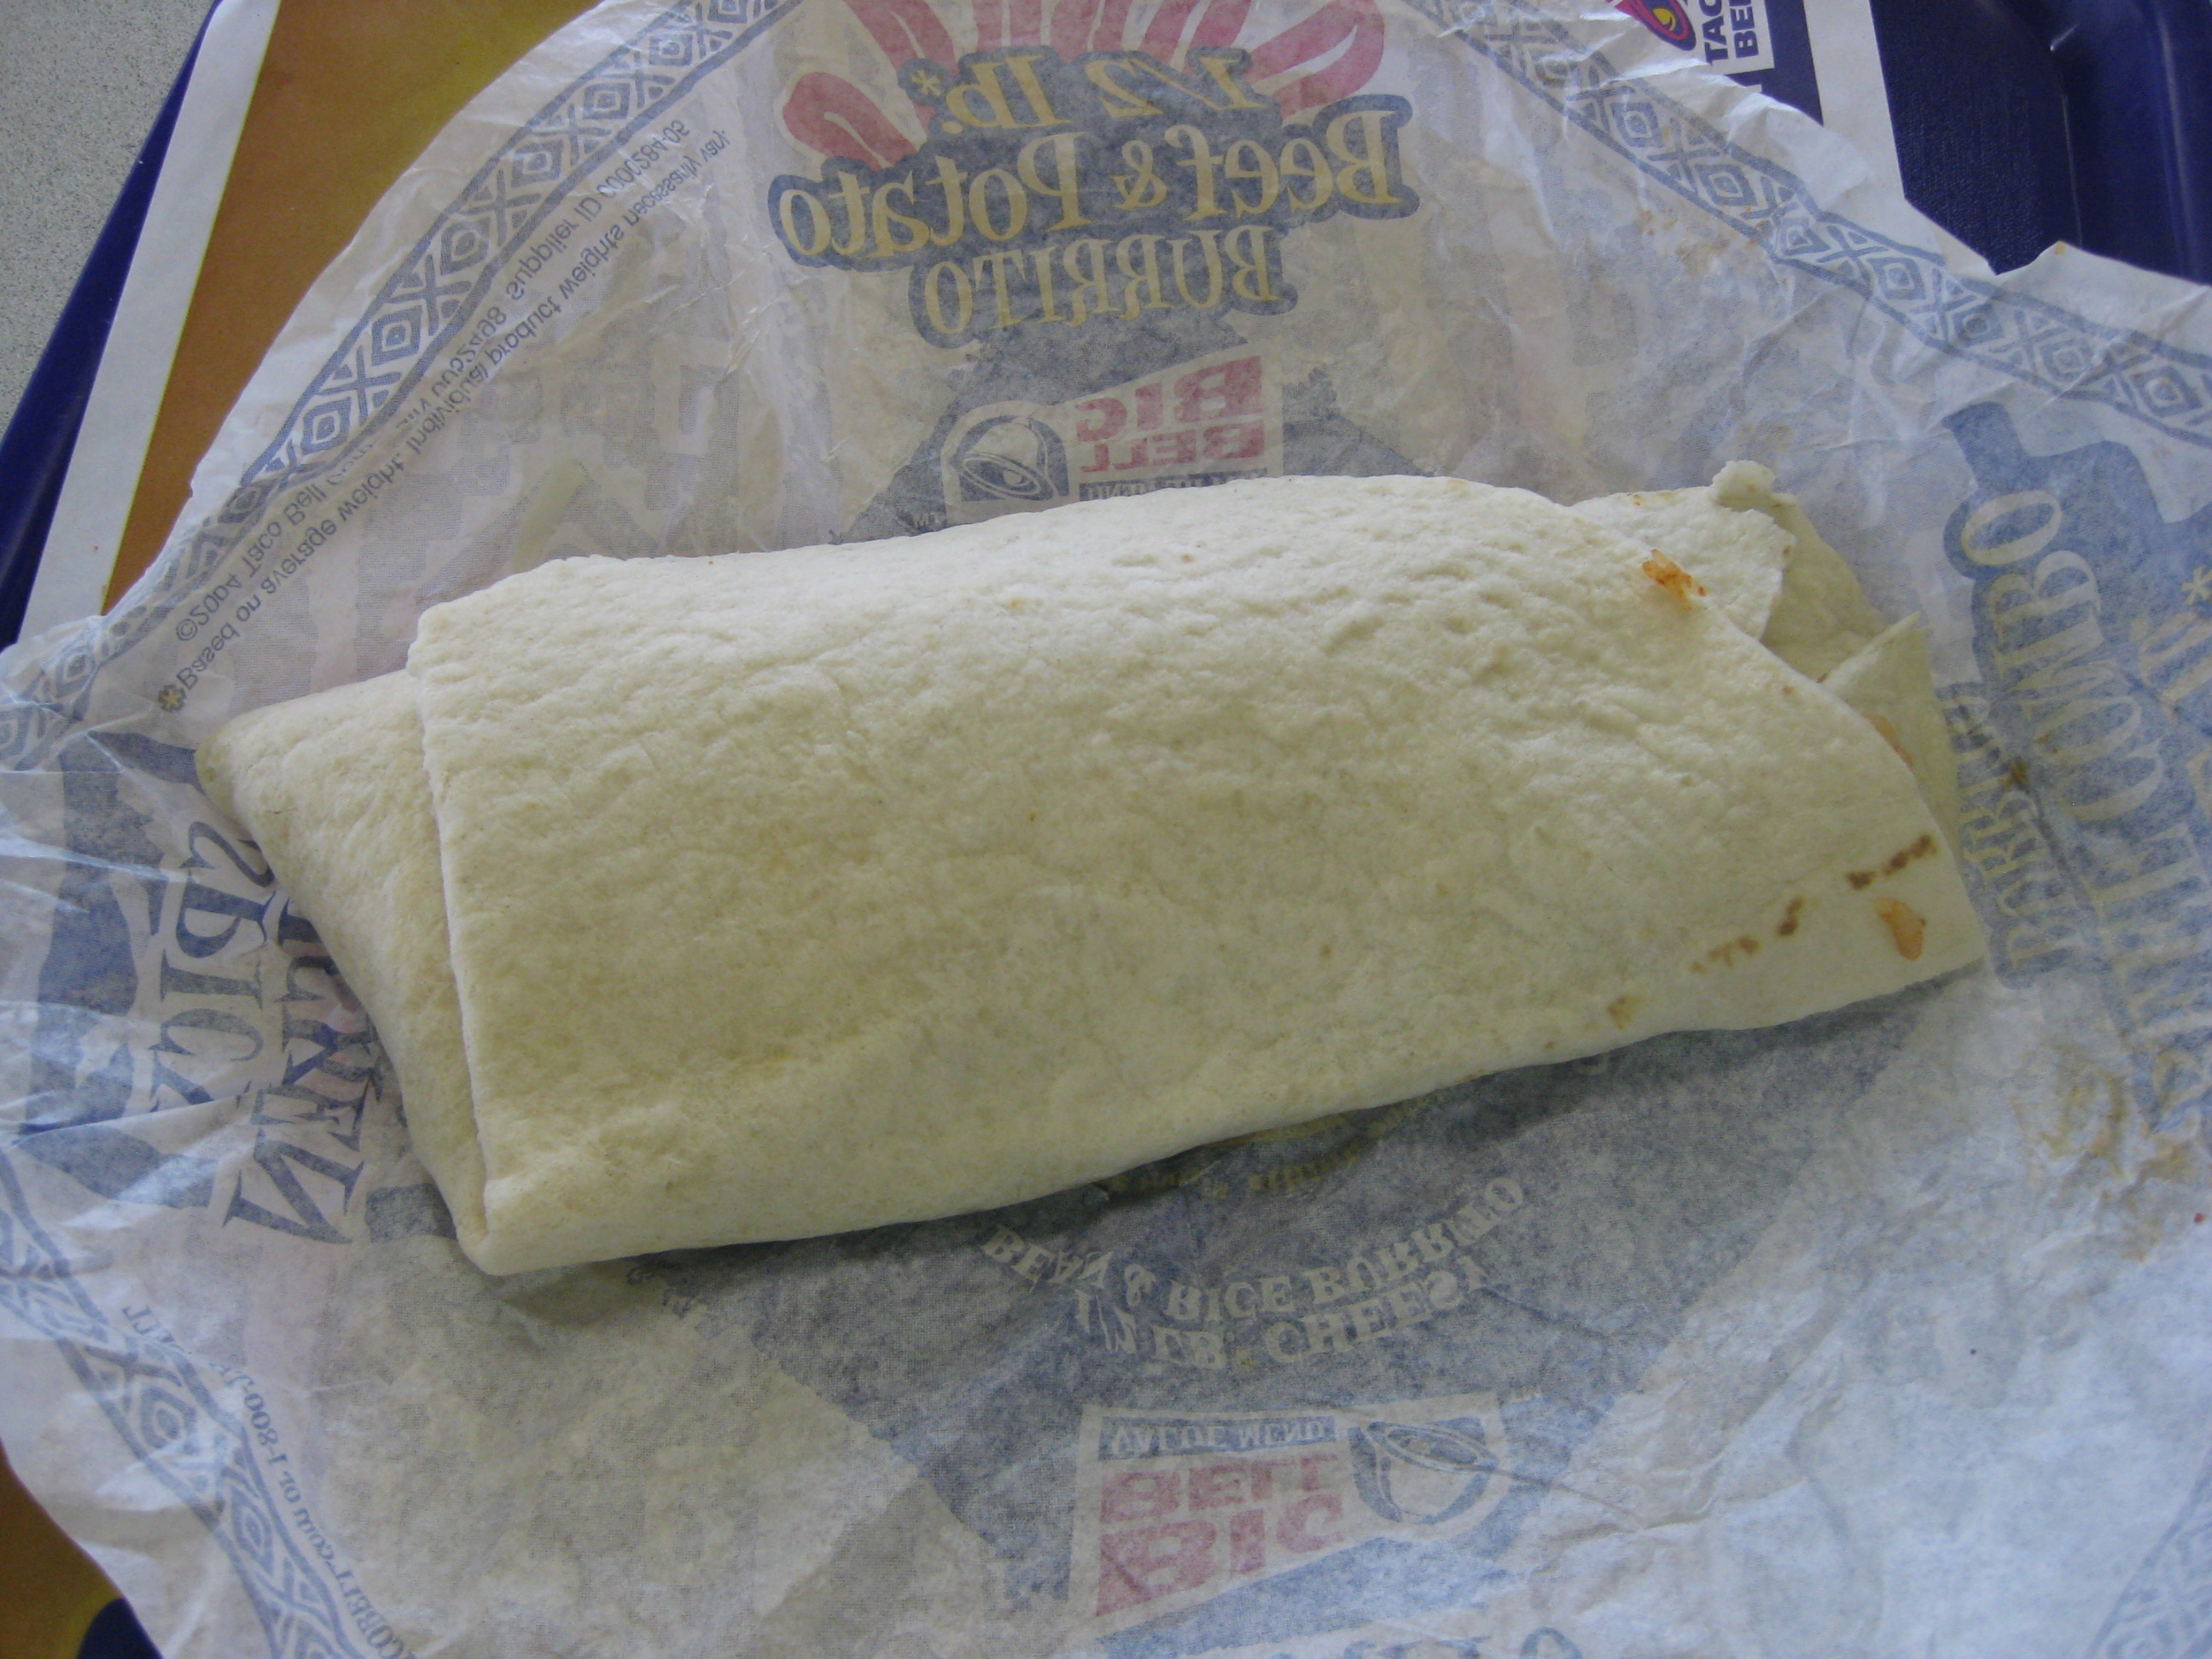burrito: (168, 403, 1996, 1305)
